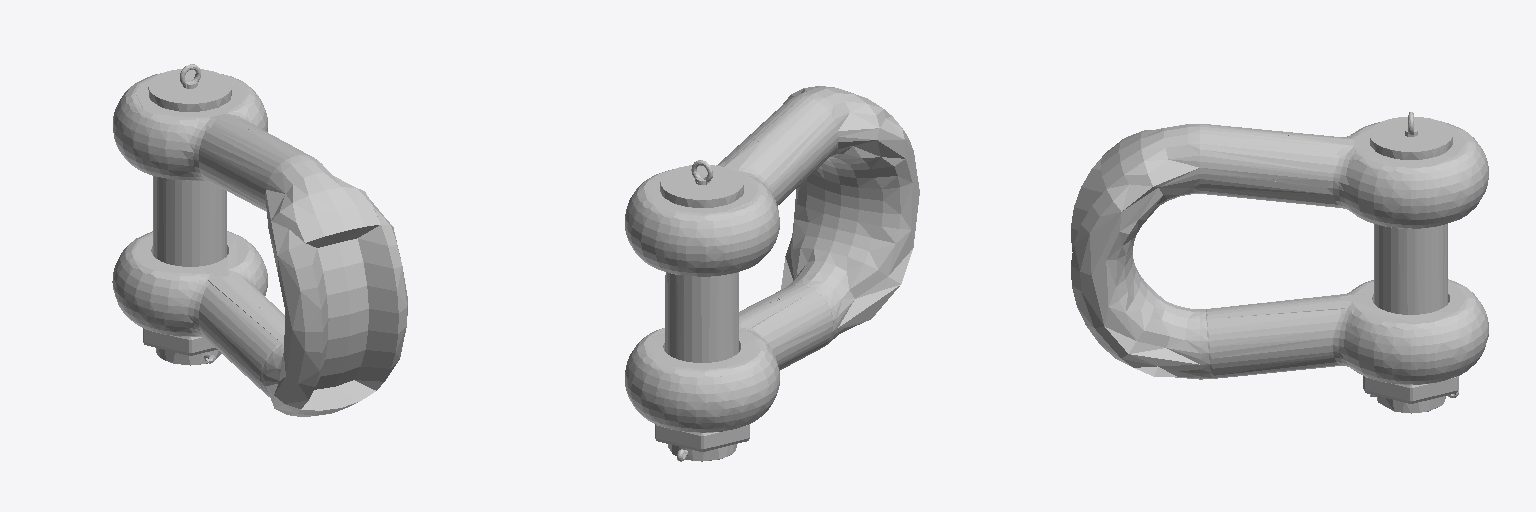
The model's file is shackle_gp800_wb.obj.
3 views of the same model, side by side, from view 1: azimuth 30°, elevation 25°; view 2: azimuth 150°, elevation 25°; view 3: azimuth 270°, elevation 25° (orthographic).
Bounding box in the file's own units: 0.464 × 0.9407 × 1.25.